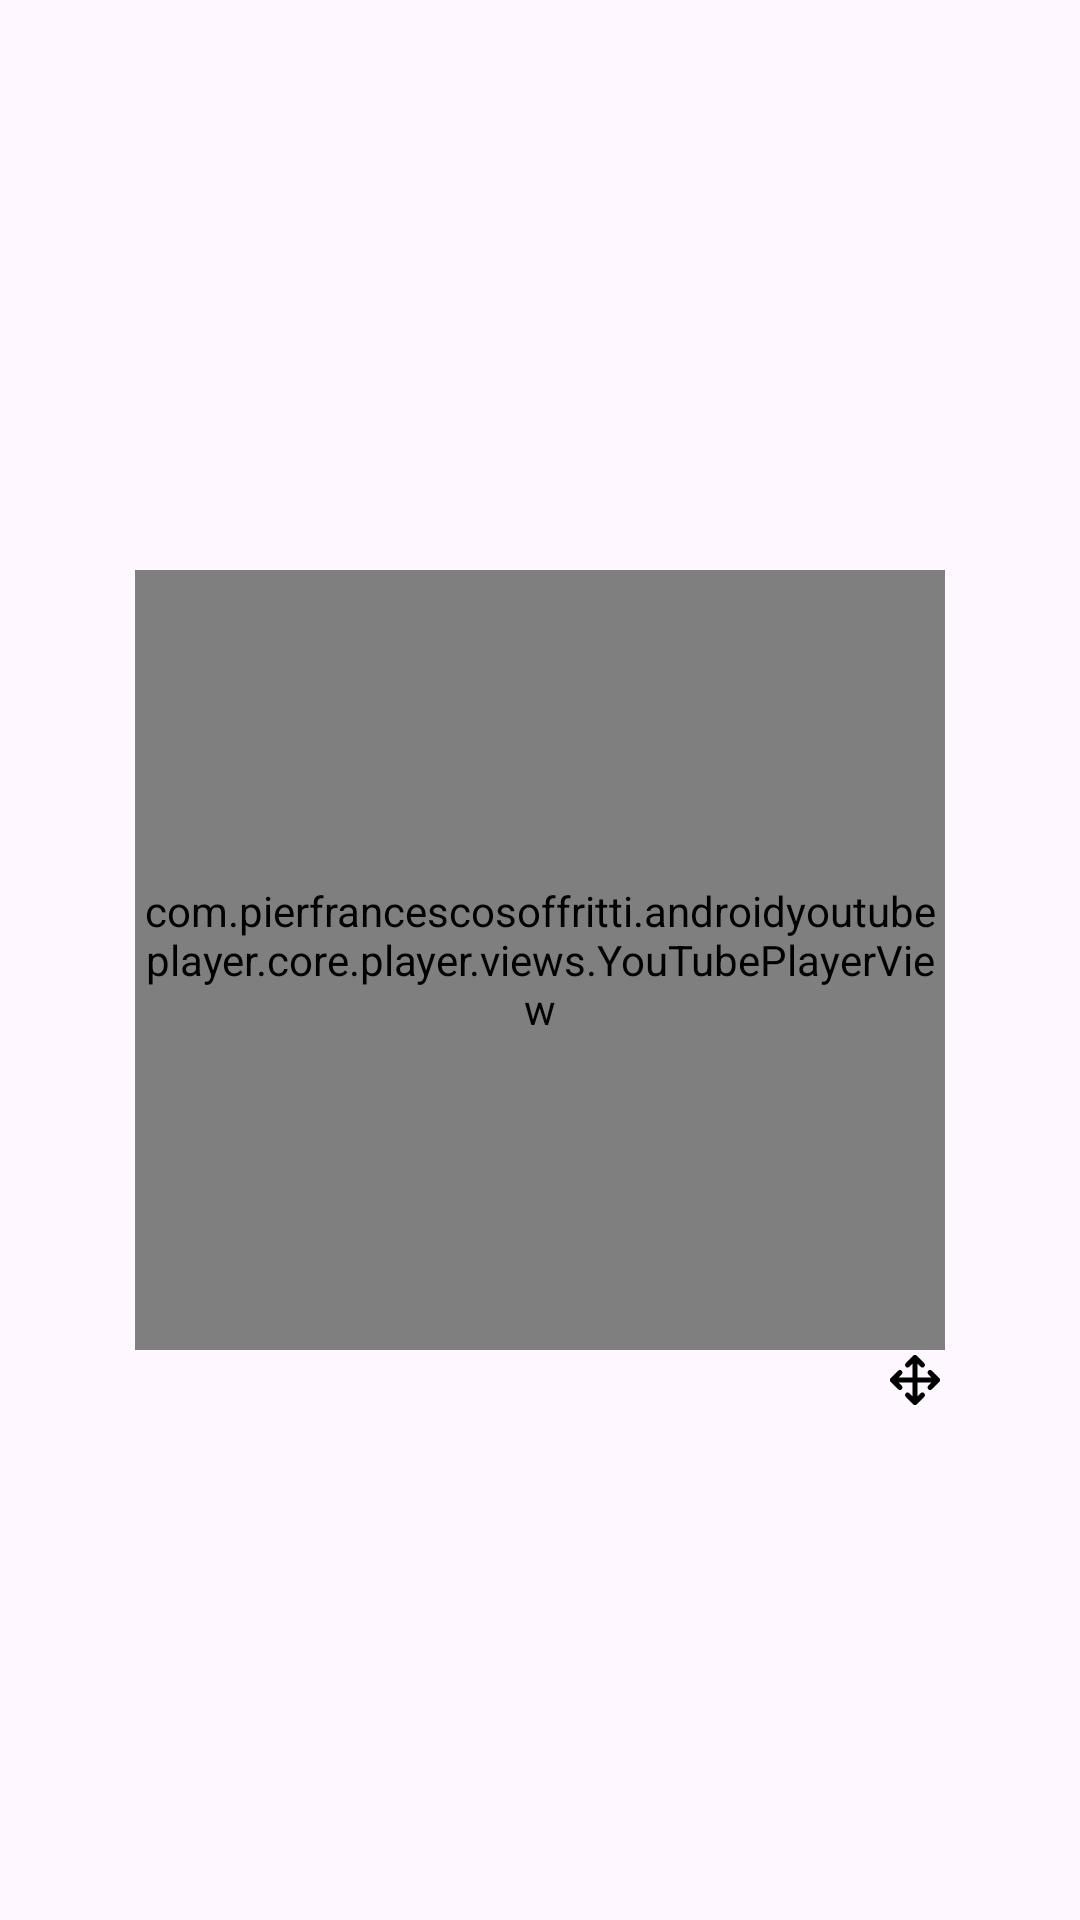

Screen size 1080px x 1920px. Icon name, then its center in pixels as (x,y):
move: (915,1380)
